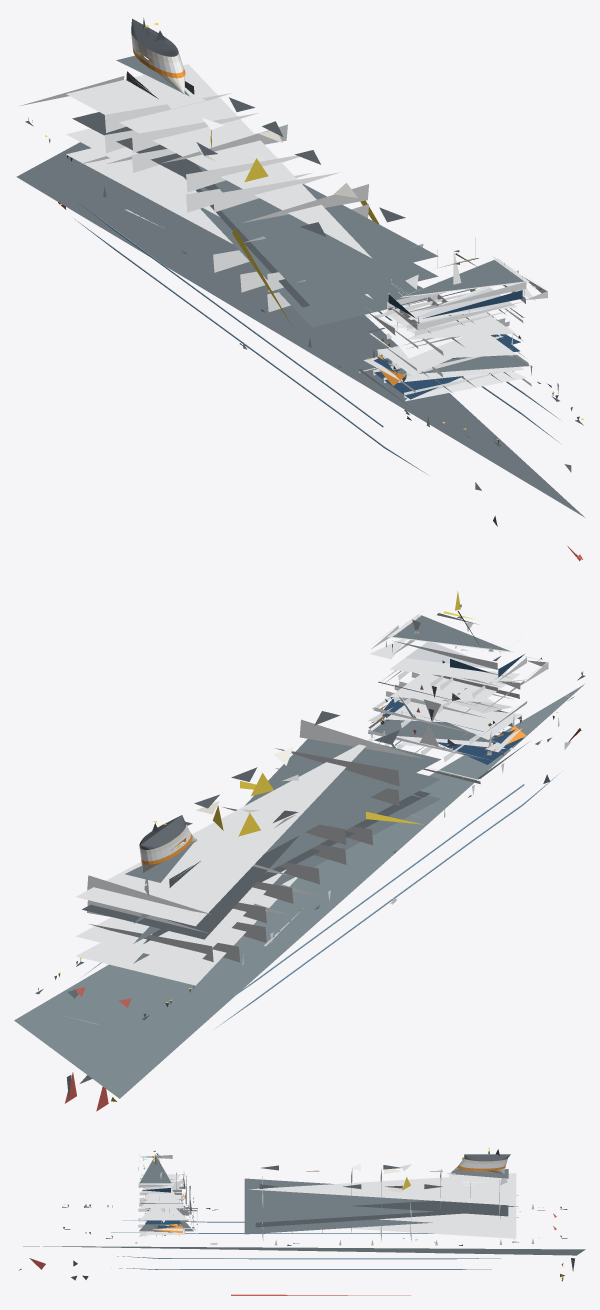
File: ship_20.glb
3 renders of one model, top to bottom at view 1: azimuth 30°, elevation 25°; view 2: azimuth 150°, elevation 25°; view 3: azimuth 270°, elevation 25°, orthographic. The views are drawn at different scales.
Parts seen in each view (by area): view 1: TrueHelm_Ship_20; view 2: TrueHelm_Ship_20; view 3: TrueHelm_Ship_20.
Boxes of the visible parts, <box> form: TrueHelm_Ship_20: <box>16,18,584,561</box>; TrueHelm_Ship_20: <box>14,591,585,1111</box>; TrueHelm_Ship_20: <box>19,1148,585,1295</box>.
Size of the model in its own units: 0.1285 by 0.1987 by 0.7569.
